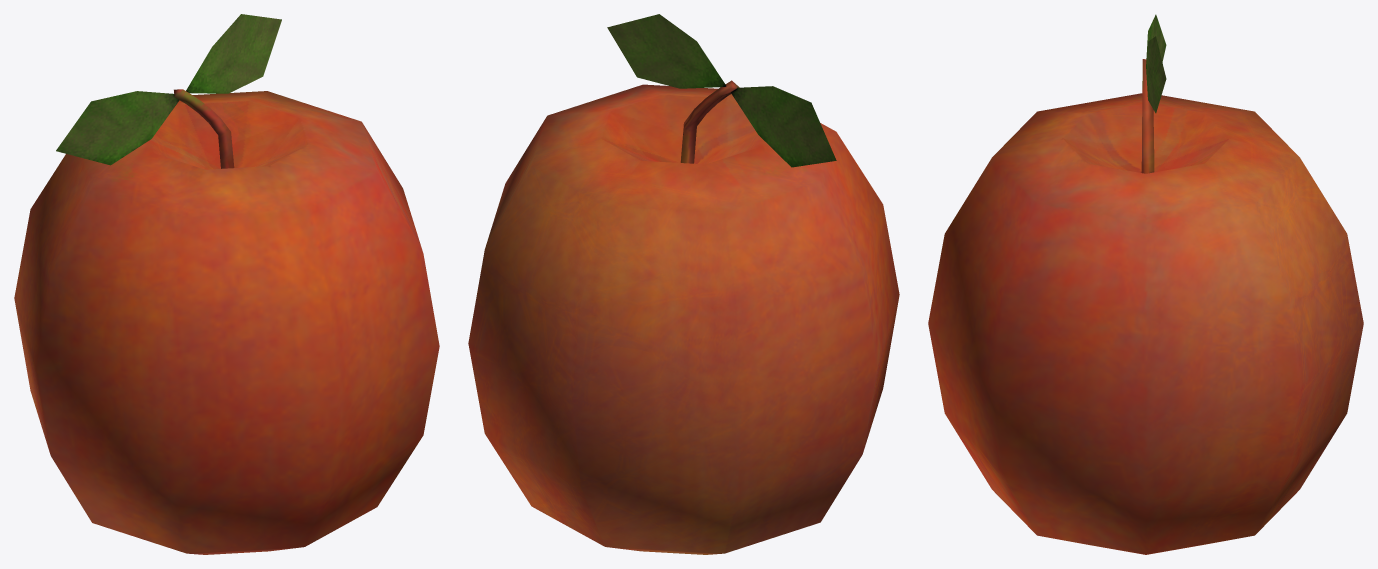
The model's file is apple.glb.
3 views of the same model, side by side, from view 1: azimuth 30°, elevation 25°; view 2: azimuth 150°, elevation 25°; view 3: azimuth 270°, elevation 25° (orthographic). The views are drawn at different scales.
Visible parts, largest first — view 1: Sphere; view 2: Sphere; view 3: Sphere.
Boxes of the visible parts, x1,y1,x2,y2 form: Sphere: (14,14,439,554); Sphere: (468,14,899,554); Sphere: (928,14,1363,554).
Size of the model in its own units: 0.5 by 0.6241 by 0.5.
1 material, 1 textured.
